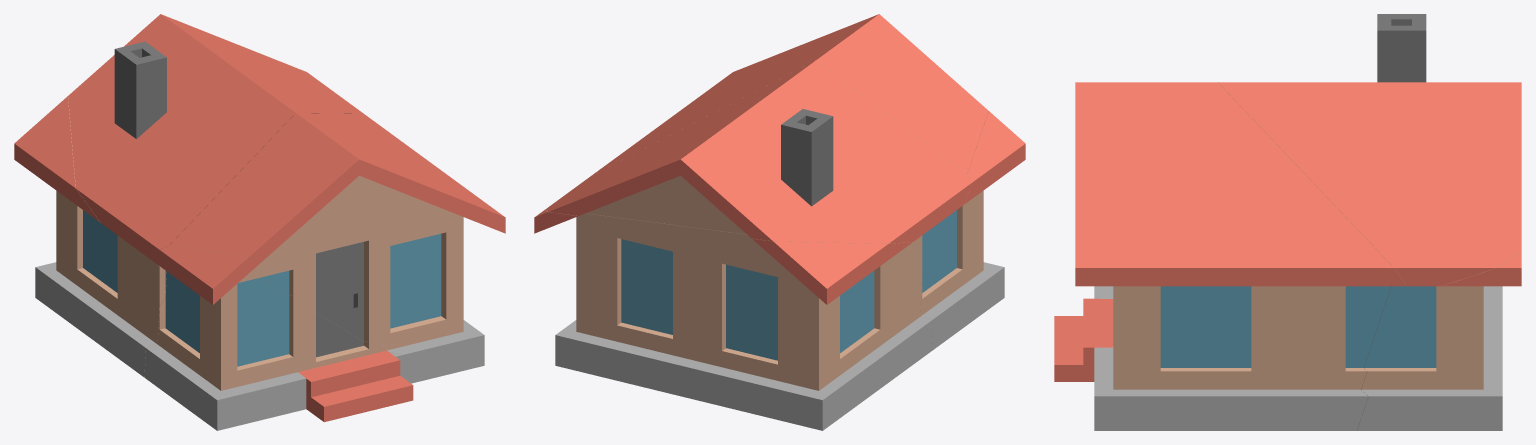
File: House 1.3 Fractured.fbx
3 views of the same model, side by side, from view 1: azimuth 30°, elevation 25°; view 2: azimuth 150°, elevation 25°; view 3: azimuth 270°, elevation 25° (orthographic). The views are drawn at different scales.
Parts seen in each view (by area): view 1: House_Type1_3_Breaking_cell.003, House_Type1_3_Breaking_cell.002, House_Type1_3_Breaking_cell, House_Type1_3_Breaking_cell.001; view 2: House_Type1_3_Breaking_cell.001, House_Type1_3_Breaking_cell.002, House_Type1_3_Breaking_cell.003, House_Type1_3_Breaking_cell; view 3: House_Type1_3_Breaking_cell.003, House_Type1_3_Breaking_cell.002, House_Type1_3_Breaking_cell.001, House_Type1_3_Breaking_cell.
Part boxes in pixels (left/top/right/bottom): House_Type1_3_Breaking_cell.003: left=170, top=113, right=505, bottom=376; House_Type1_3_Breaking_cell.002: left=68, top=14, right=363, bottom=266; House_Type1_3_Breaking_cell: left=144, top=245, right=437, bottom=430; House_Type1_3_Breaking_cell.001: left=14, top=67, right=316, bottom=377; House_Type1_3_Breaking_cell.001: left=534, top=209, right=933, bottom=430; House_Type1_3_Breaking_cell.002: left=545, top=60, right=972, bottom=243; House_Type1_3_Breaking_cell.003: left=593, top=14, right=988, bottom=174; House_Type1_3_Breaking_cell: left=920, top=111, right=1025, bottom=350; House_Type1_3_Breaking_cell.003: left=1075, top=82, right=1406, bottom=430; House_Type1_3_Breaking_cell.002: left=1218, top=14, right=1521, bottom=286; House_Type1_3_Breaking_cell.001: left=1357, top=251, right=1521, bottom=430; House_Type1_3_Breaking_cell: left=1054, top=286, right=1113, bottom=381.
Bounding box in the file's own units: 399 × 342 × 491.
